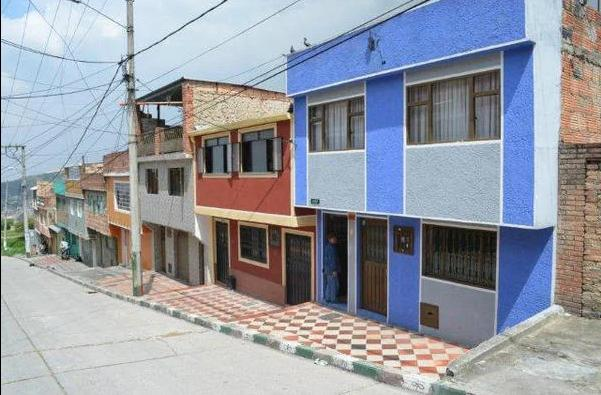casa: (285, 29, 548, 342), (191, 130, 306, 301), (131, 115, 209, 289), (103, 160, 155, 273)
